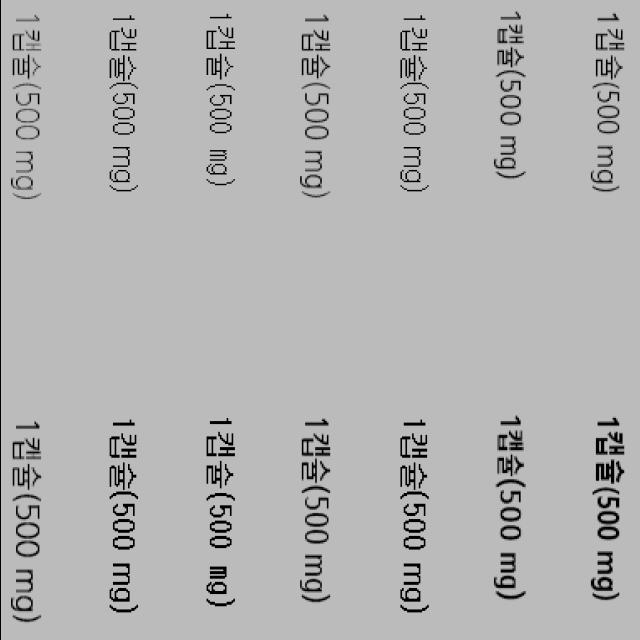bold: (0, 414, 55, 632), (391, 410, 442, 618), (486, 408, 538, 610), (100, 411, 150, 618), (194, 408, 244, 614), (580, 409, 632, 606), (293, 410, 339, 609)
normal: (578, 6, 638, 196), (1, 10, 58, 204), (290, 7, 344, 206), (482, 8, 538, 185), (196, 8, 248, 190), (390, 6, 438, 200), (101, 7, 146, 196)
